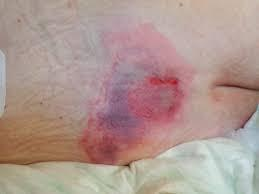Stage4: (87, 41, 201, 150)
